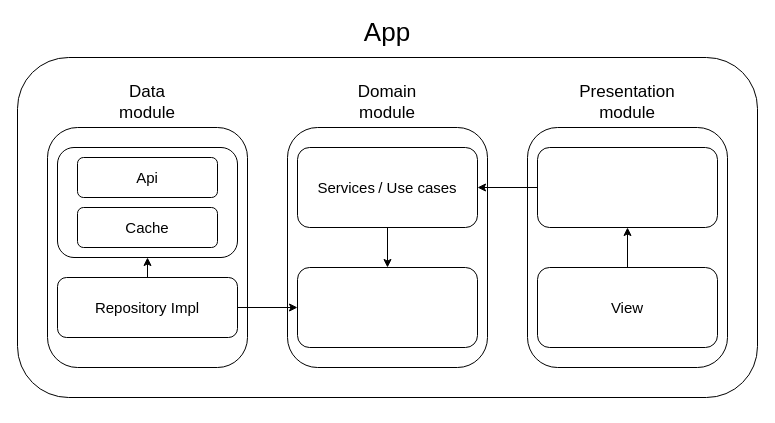
The diagram is 775 pixels wide and 423 high, and some of its shapes have lost their labels. The shapes that lost their labels are listed below. From the top down, each one's centre as x and y in pixels, then its label:
At point 627,187: "ViewModel".
At point 387,307: "Repository Interface".
